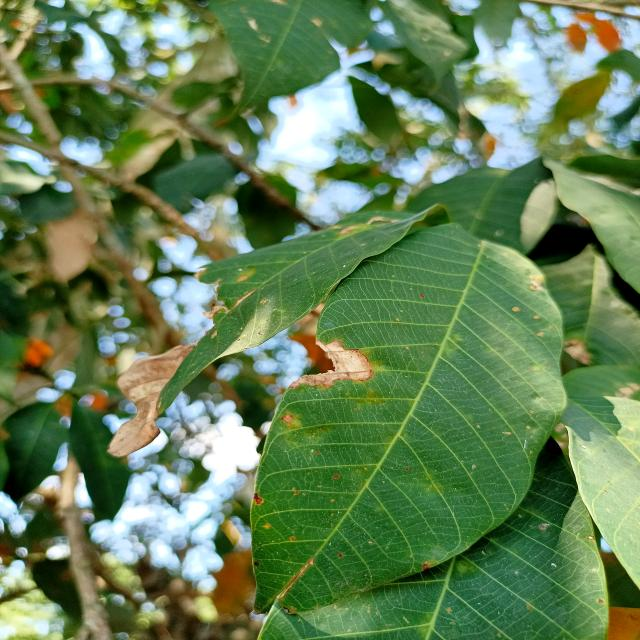Colletotrichum: (254, 561, 260, 566)
Leaf-Blight: (108, 336, 205, 457), (290, 339, 374, 388), (202, 302, 228, 323), (233, 290, 256, 309)
